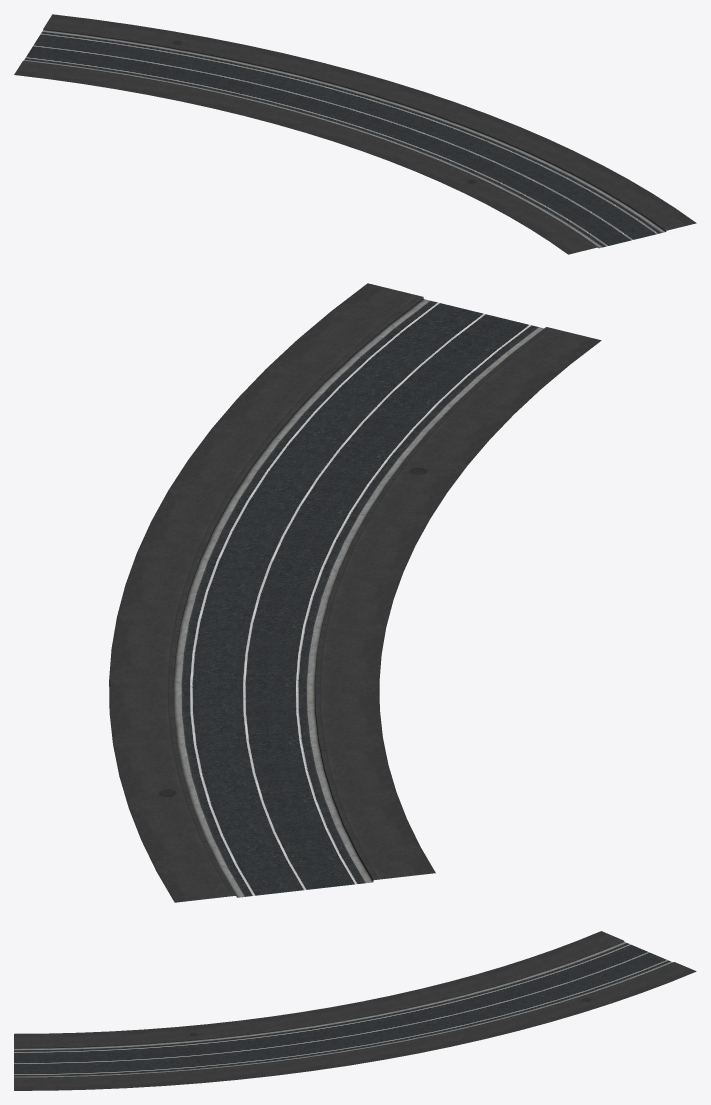
The model's file is city_road_cont_marking_45left.fbx.
3 renders of one model, top to bottom at view 1: azimuth 30°, elevation 25°; view 2: azimuth 150°, elevation 25°; view 3: azimuth 270°, elevation 25°, orthographic. The views are drawn at different scales.
Parts seen in each view (by area): view 1: obj0; view 2: obj0; view 3: obj0.
Part boxes in pixels (x1,y1,x2,y2): obj0: (14,14,696,254); obj0: (109,283,601,902); obj0: (14,931,696,1090).
Bounding box in the file's own units: 81.77 × 0.254 × 148.
